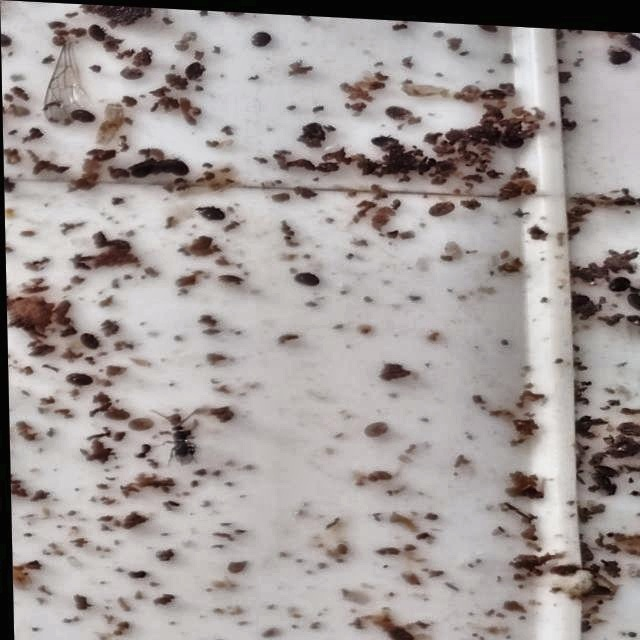varroa: (192, 201, 231, 222), (290, 267, 321, 287), (367, 129, 400, 147), (604, 268, 633, 288), (498, 129, 528, 148), (164, 155, 189, 177), (384, 102, 414, 120), (63, 370, 94, 387), (76, 331, 99, 353), (478, 82, 507, 99), (70, 108, 97, 126), (87, 22, 109, 44), (183, 59, 205, 81), (608, 43, 633, 60), (250, 29, 274, 45), (474, 20, 502, 30), (4, 176, 17, 195), (2, 33, 15, 51)
